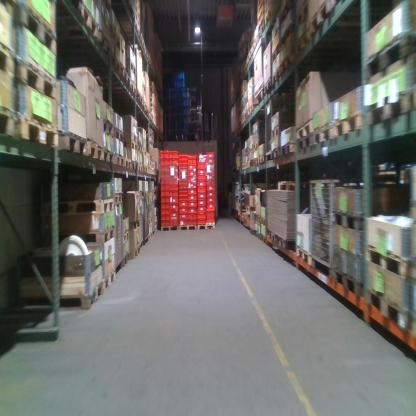pallet: (4, 277, 107, 307), (16, 3, 57, 57), (16, 54, 55, 104), (16, 114, 58, 153), (38, 224, 115, 245), (367, 242, 405, 279), (367, 39, 399, 82), (366, 289, 402, 325), (332, 266, 363, 299), (44, 198, 115, 212), (58, 128, 88, 161), (367, 97, 399, 127), (335, 108, 365, 140), (311, 1, 331, 37), (331, 209, 363, 229), (0, 41, 16, 81), (81, 1, 97, 37), (313, 122, 333, 150), (0, 106, 16, 139), (281, 44, 295, 79), (295, 117, 315, 139), (280, 22, 296, 49), (87, 138, 103, 164), (298, 131, 316, 154), (296, 33, 314, 56), (295, 3, 311, 28), (275, 233, 296, 250), (281, 139, 297, 161), (270, 124, 295, 138), (296, 246, 311, 269), (97, 30, 110, 55), (110, 148, 124, 169), (102, 269, 116, 290), (128, 242, 142, 262), (272, 40, 282, 63), (101, 147, 114, 164), (124, 218, 141, 231), (103, 117, 114, 137), (273, 65, 282, 89), (111, 52, 121, 73), (264, 77, 272, 101), (160, 224, 178, 234), (178, 224, 198, 233), (270, 147, 281, 163), (110, 192, 123, 205), (120, 228, 130, 244), (124, 137, 137, 149), (198, 223, 215, 232), (256, 88, 265, 105), (122, 67, 130, 86), (121, 252, 130, 268), (252, 141, 265, 152), (114, 128, 125, 141), (247, 102, 257, 116), (247, 44, 254, 64), (129, 59, 137, 75), (130, 160, 138, 174), (268, 230, 275, 244), (124, 158, 131, 172), (136, 160, 142, 175), (131, 83, 137, 98), (253, 35, 258, 52), (140, 33, 145, 50), (261, 234, 268, 246), (146, 231, 153, 243), (137, 90, 143, 104), (136, 190, 143, 201), (135, 21, 140, 36), (259, 155, 265, 166), (254, 157, 259, 170), (141, 191, 149, 199), (246, 160, 251, 171), (255, 214, 261, 223), (137, 143, 143, 152), (147, 218, 153, 227), (142, 149, 148, 157), (149, 168, 155, 176), (143, 165, 148, 174), (153, 219, 158, 228), (255, 233, 261, 240), (241, 162, 246, 170), (262, 216, 266, 225), (154, 226, 158, 234), (149, 162, 155, 167), (148, 203, 152, 209), (147, 168, 150, 175)
small_load_carrier: (169, 210, 179, 227), (168, 151, 179, 160), (159, 150, 170, 158), (188, 154, 197, 163), (160, 196, 170, 204), (160, 220, 169, 228), (197, 219, 207, 226), (197, 212, 207, 219), (169, 184, 179, 191), (160, 158, 170, 165), (160, 165, 170, 172), (160, 172, 170, 179), (187, 170, 198, 176), (188, 194, 197, 201), (207, 164, 214, 173), (188, 219, 197, 226), (169, 165, 178, 172), (169, 172, 178, 179), (170, 203, 179, 210), (206, 218, 216, 224), (197, 163, 207, 169), (188, 163, 198, 169), (169, 160, 179, 166), (169, 191, 179, 197), (198, 193, 206, 200), (198, 186, 206, 193), (207, 191, 215, 198), (188, 206, 196, 213), (161, 184, 169, 191), (198, 200, 207, 206), (197, 175, 206, 181), (197, 169, 206, 175), (206, 152, 215, 158), (179, 214, 188, 220), (179, 208, 188, 214), (179, 202, 188, 208), (161, 209, 170, 215), (178, 160, 188, 165), (169, 179, 179, 184), (160, 204, 170, 209), (189, 182, 196, 189), (207, 173, 214, 180), (207, 211, 215, 217), (198, 206, 206, 212), (188, 176, 196, 182), (207, 180, 215, 186), (188, 213, 196, 219), (180, 220, 188, 226), (170, 197, 178, 203), (197, 181, 206, 186), (188, 201, 197, 206), (160, 179, 169, 184), (161, 191, 170, 196), (161, 215, 170, 220), (207, 158, 214, 164), (208, 198, 215, 204), (189, 189, 197, 194), (207, 186, 215, 191), (179, 198, 188, 202), (179, 187, 188, 191), (208, 205, 215, 210), (180, 194, 188, 198), (179, 184, 187, 188), (179, 173, 187, 177), (178, 157, 188, 160), (178, 154, 188, 157), (179, 191, 188, 194), (179, 165, 188, 168), (179, 181, 188, 184), (178, 177, 187, 180), (179, 170, 187, 173)
stillage: (307, 174, 336, 282), (265, 102, 273, 165)
